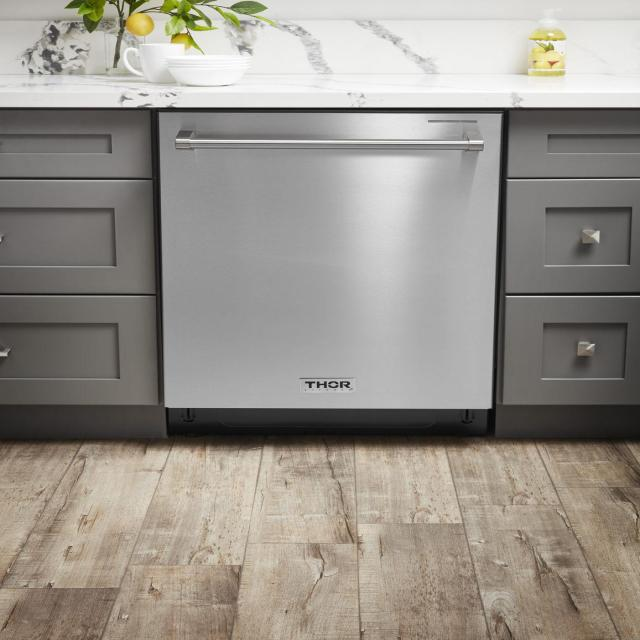dishwasher: (132, 80, 548, 459)
